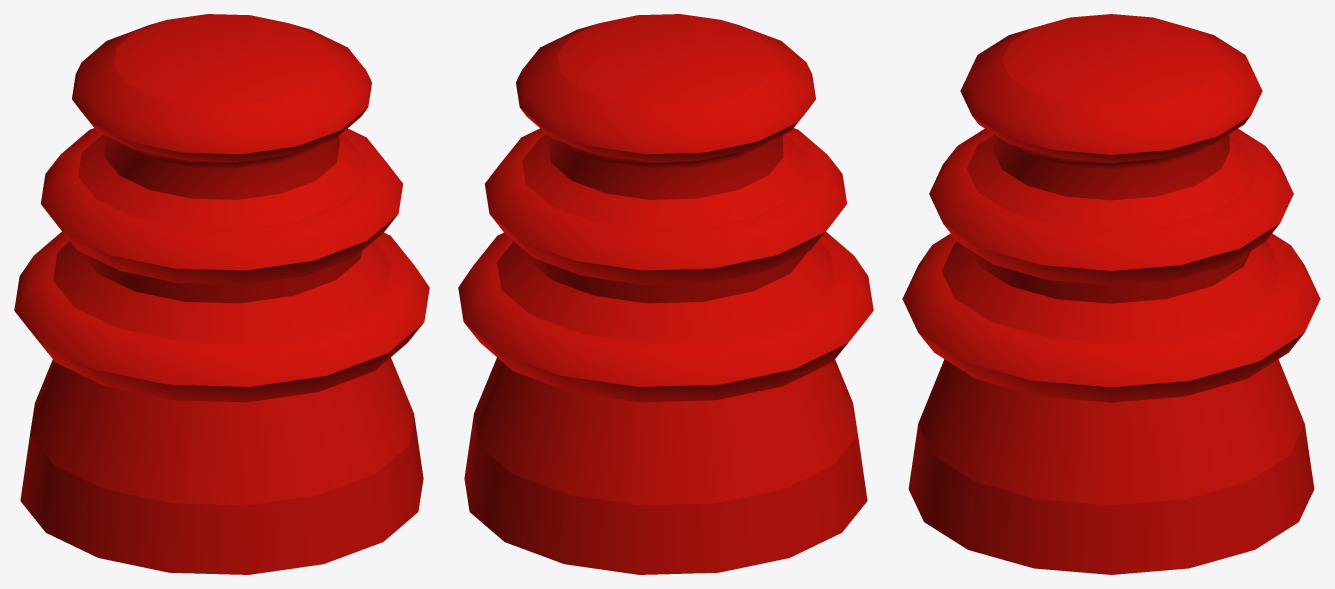
File: electrical insulator.fbx
The picture shows the model from 3 angles, left to right: view 1: azimuth 30°, elevation 25°; view 2: azimuth 150°, elevation 25°; view 3: azimuth 270°, elevation 25°; orthographic projection.
Parts seen in each view (by area): view 1: Cylinder; view 2: Cylinder; view 3: Cylinder.
Part boxes in pixels (<box>): Cylinder: <box>14,14,429,574</box>; Cylinder: <box>458,14,873,574</box>; Cylinder: <box>902,14,1320,574</box>.
Size of the model in its own units: 92.77 by 107 by 92.77.
